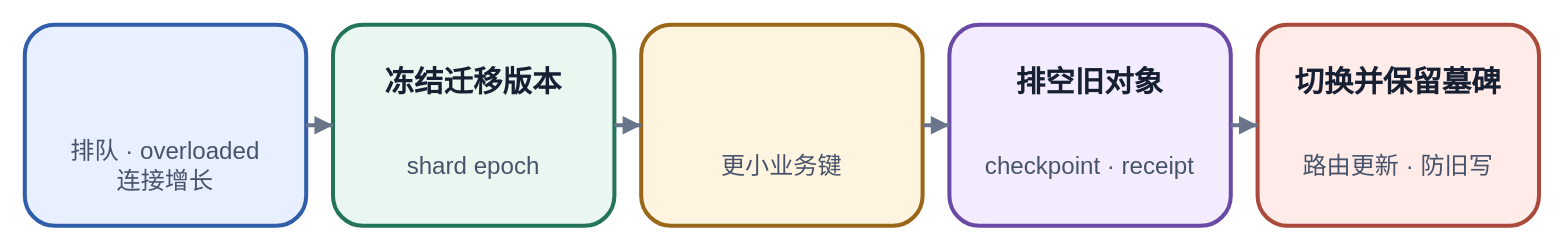
Image size: 1564x251. Some labels were removed from this diagram. The shapes that lost their labels are listed below. From the top down, each one's box as (x1, y1, x2, y2) in pixels, then its label:
(22, 22, 308, 227): 热点信号
(639, 22, 924, 227): 创建新对象
